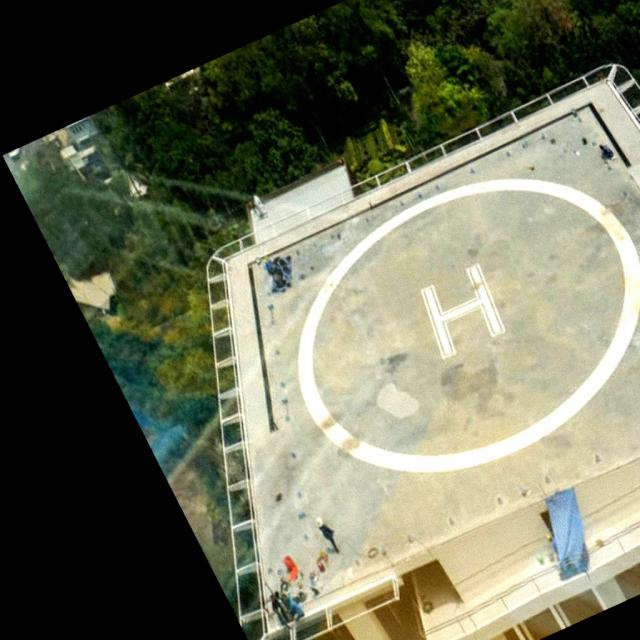helipad: (293, 174, 638, 475)
